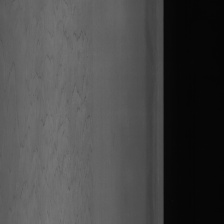silk_spot: (19, 25, 96, 189)
